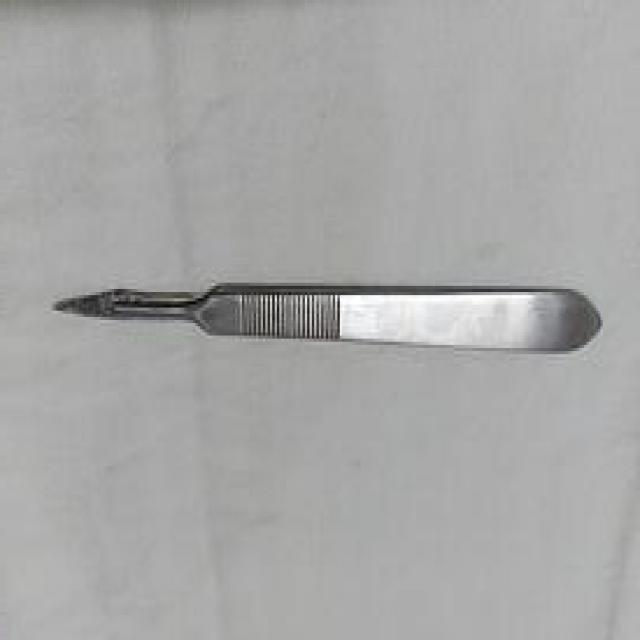Scalpel: (47, 274, 606, 360)
